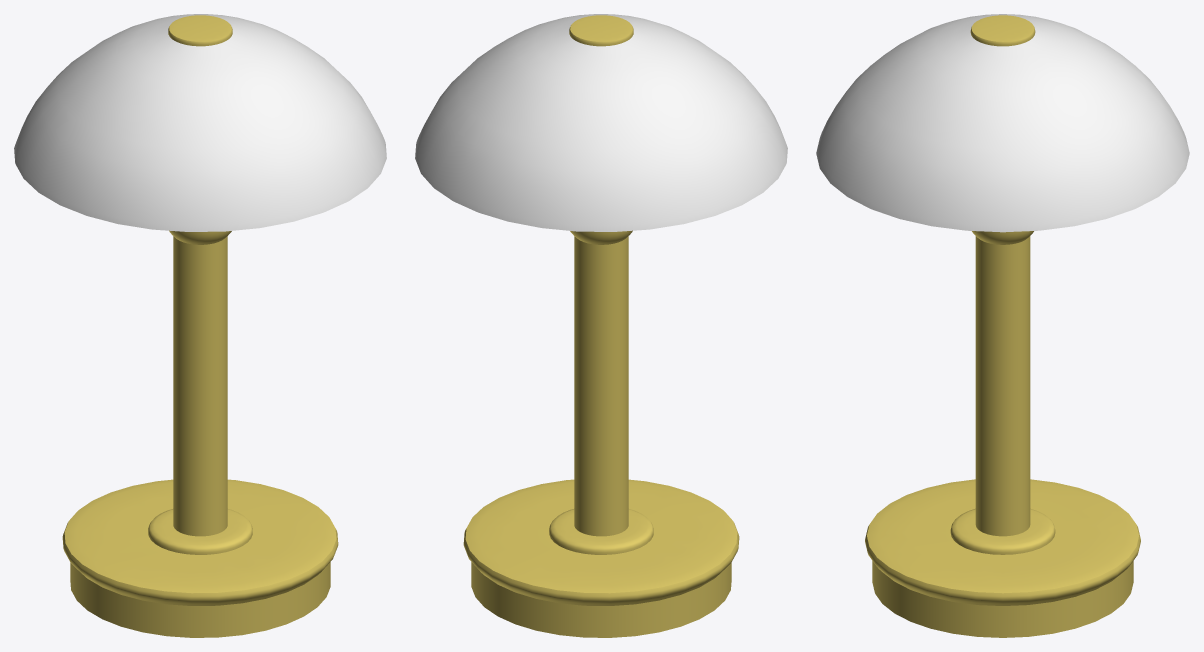
The model's file is sh_blend_swap_cc_0_desklamp.glb.
3 renders of one model, left to right at view 1: azimuth 30°, elevation 25°; view 2: azimuth 150°, elevation 25°; view 3: azimuth 270°, elevation 25°, orthographic.
Size of the model in its own units: 0.244 by 0.4 by 0.244.
